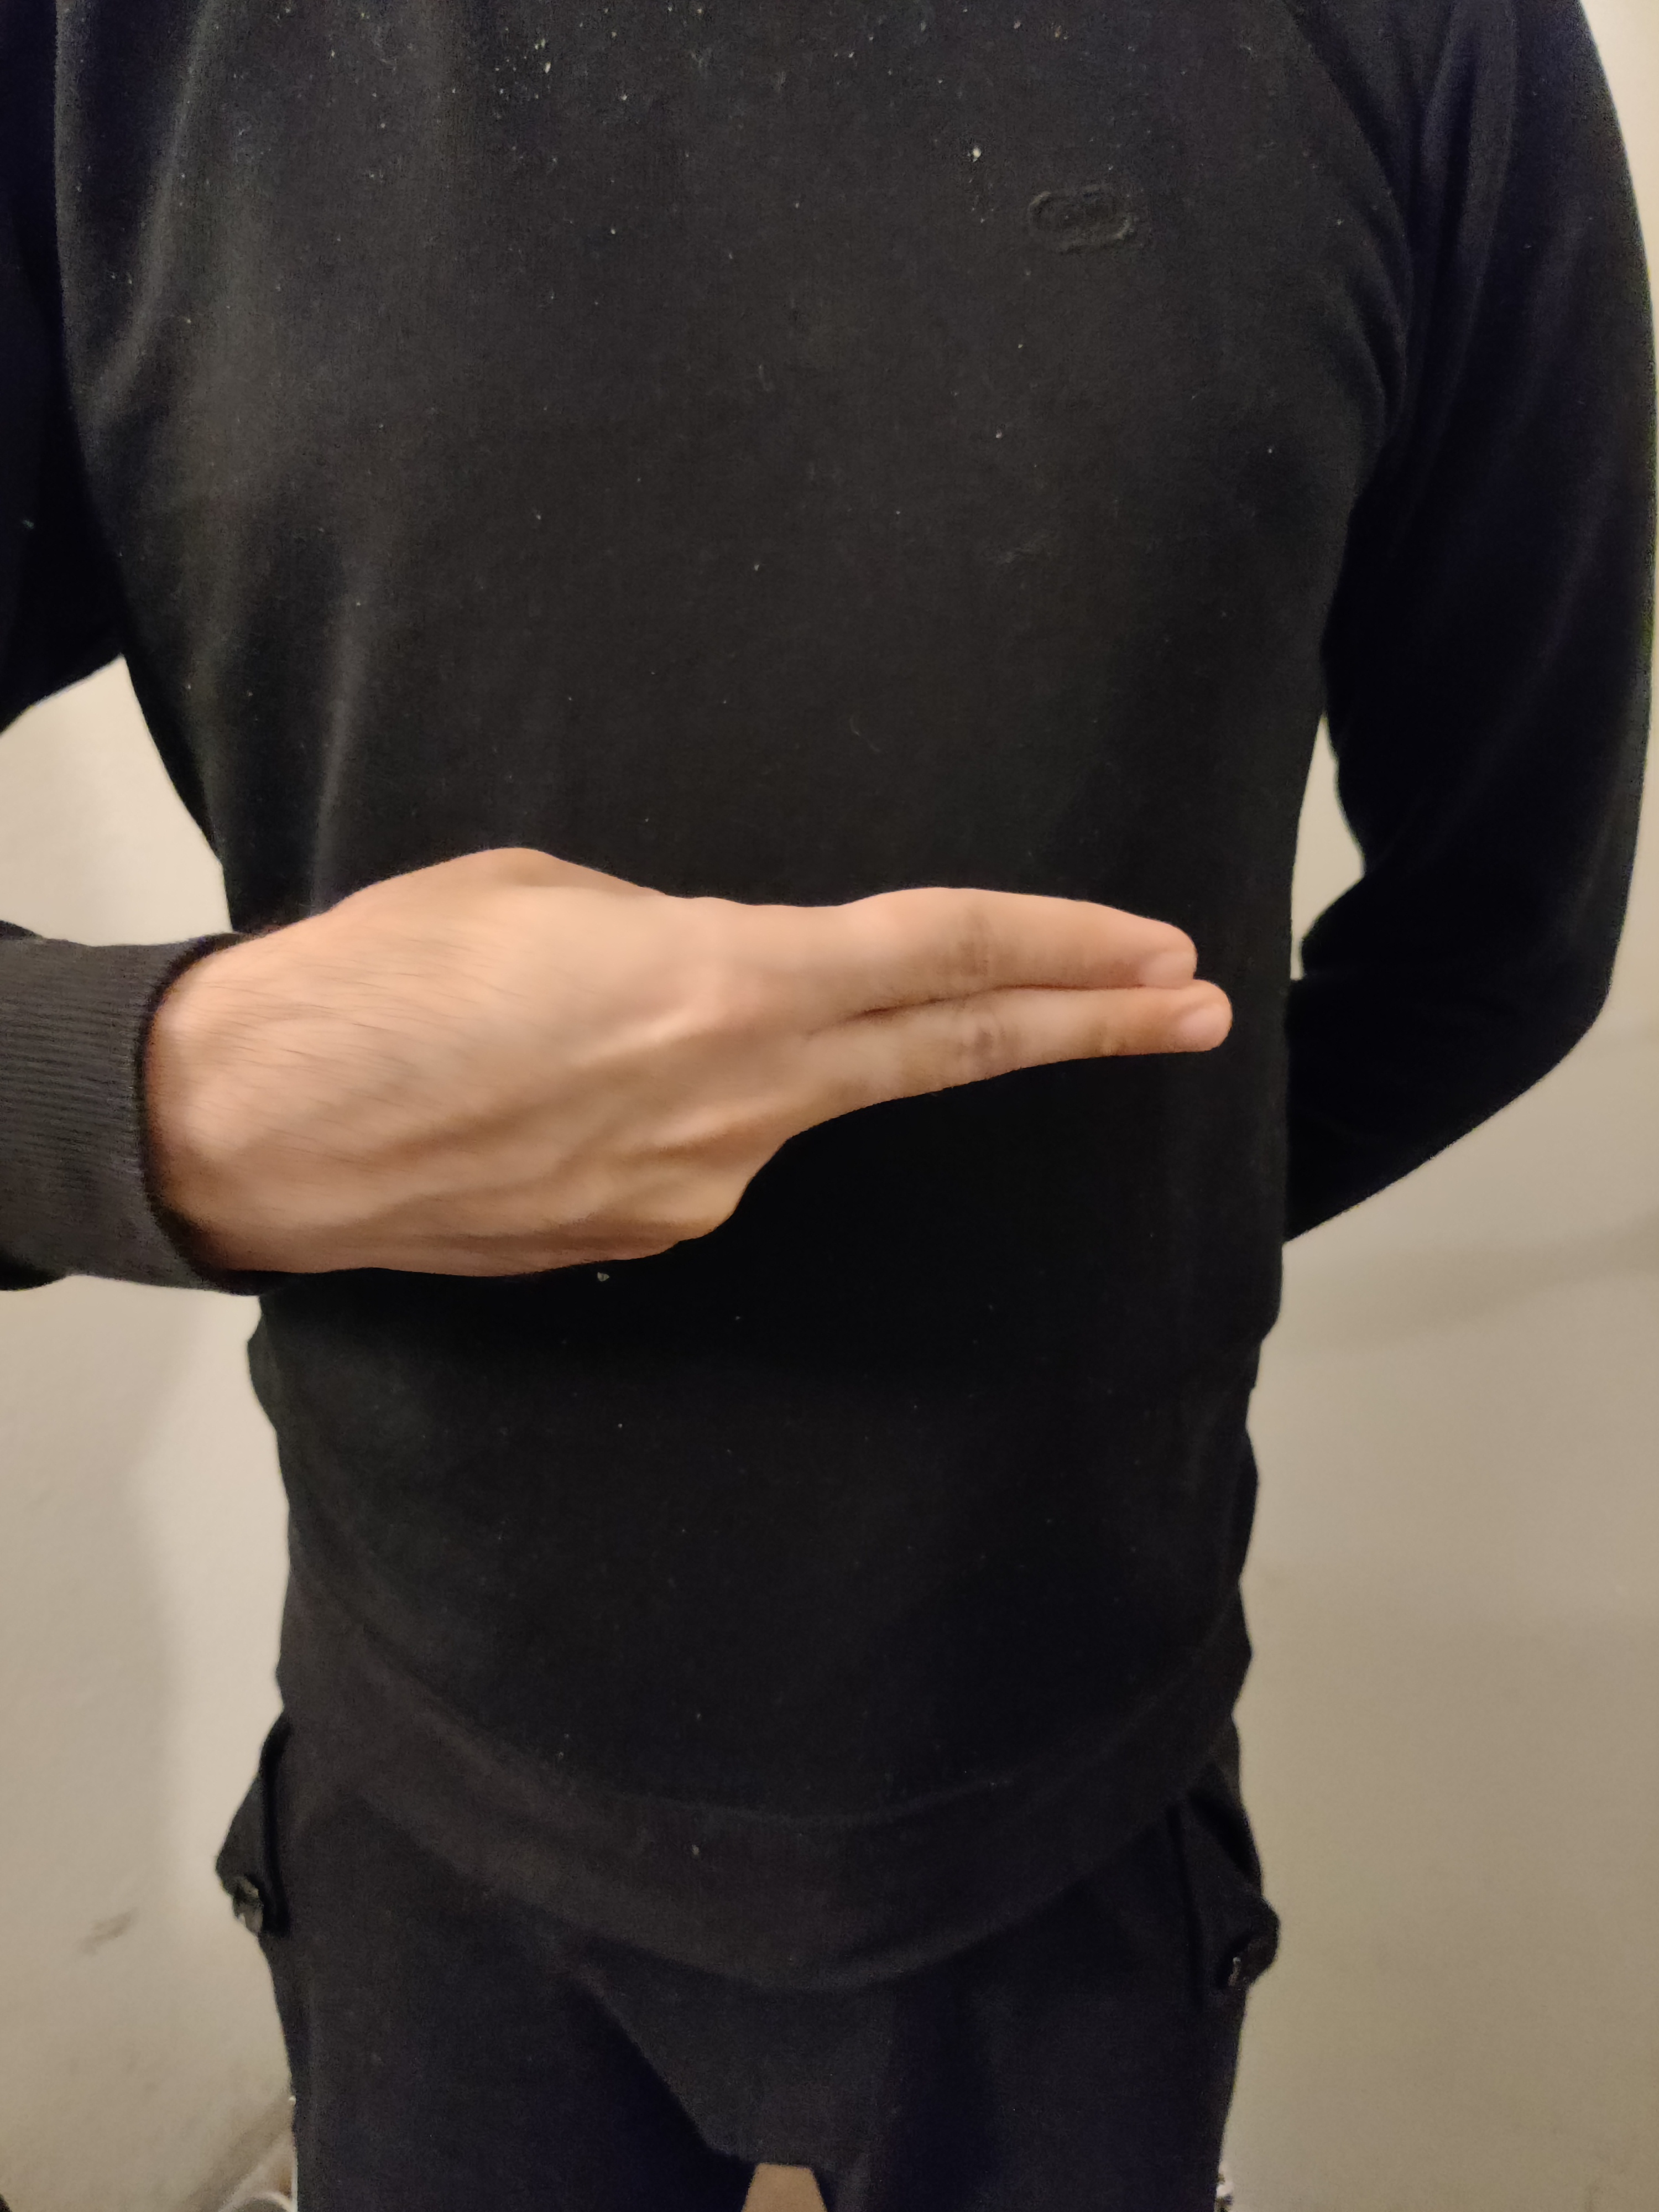left: (73, 521, 1412, 1623)
